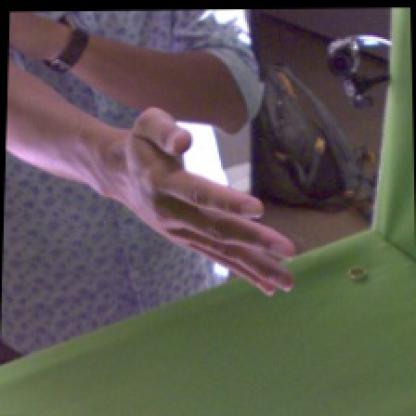Hand: (114, 107, 296, 298)
